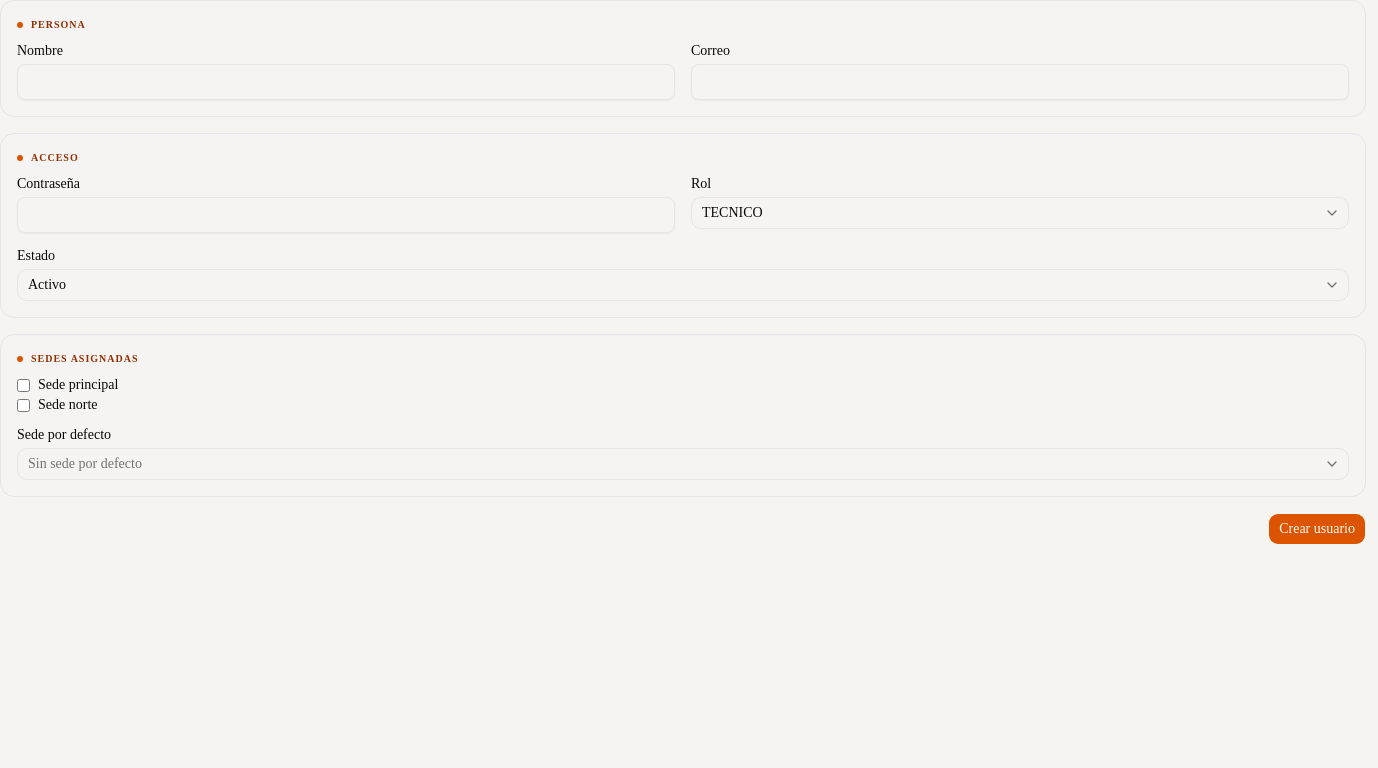
it: NuevoUsuarioForm › renders the three roles as options
Click the dropdown named "rol": {"x": 732, "y": 212} [691,197,1349,229]
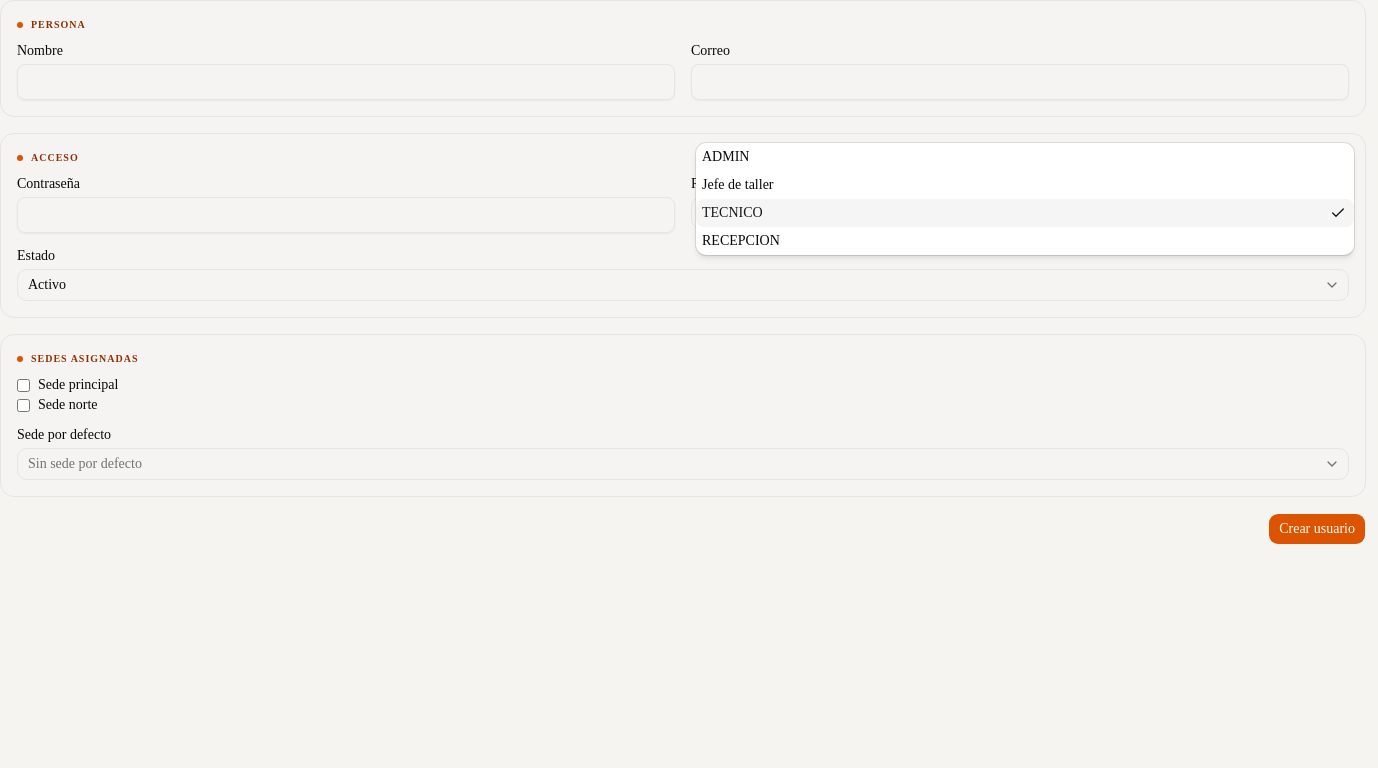
Now the option "ADMIN" is shown, box [702,149,750,164]
Now the option "TECNICO" is shown, box [696,199,1354,227]
Now the option "RECEPCION" is shown, box [702,233,780,248]
